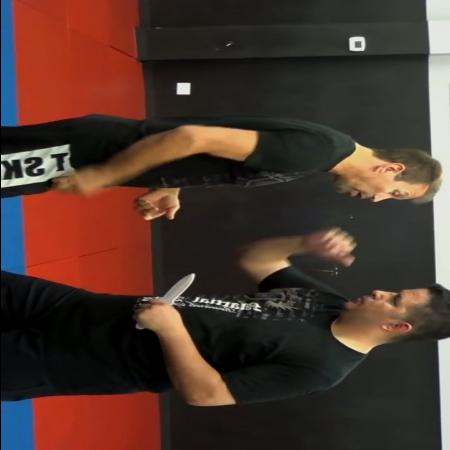long weapon: (130, 272, 200, 332)
